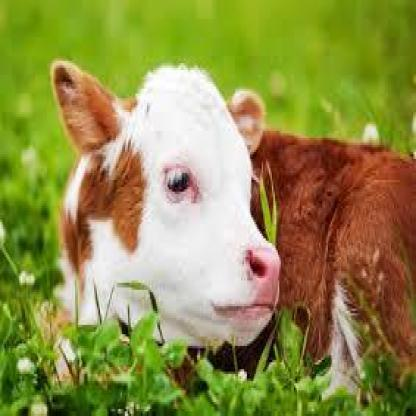cow: (50, 58, 416, 392)
